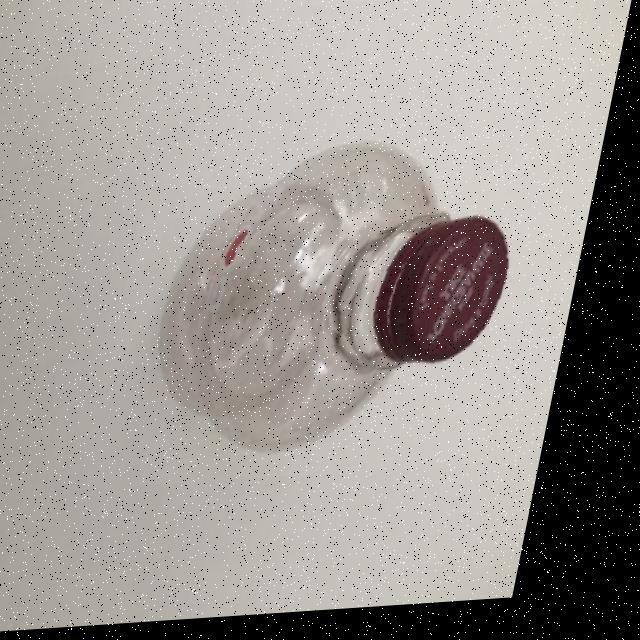litter: (105, 116, 592, 492), (356, 200, 565, 393)
